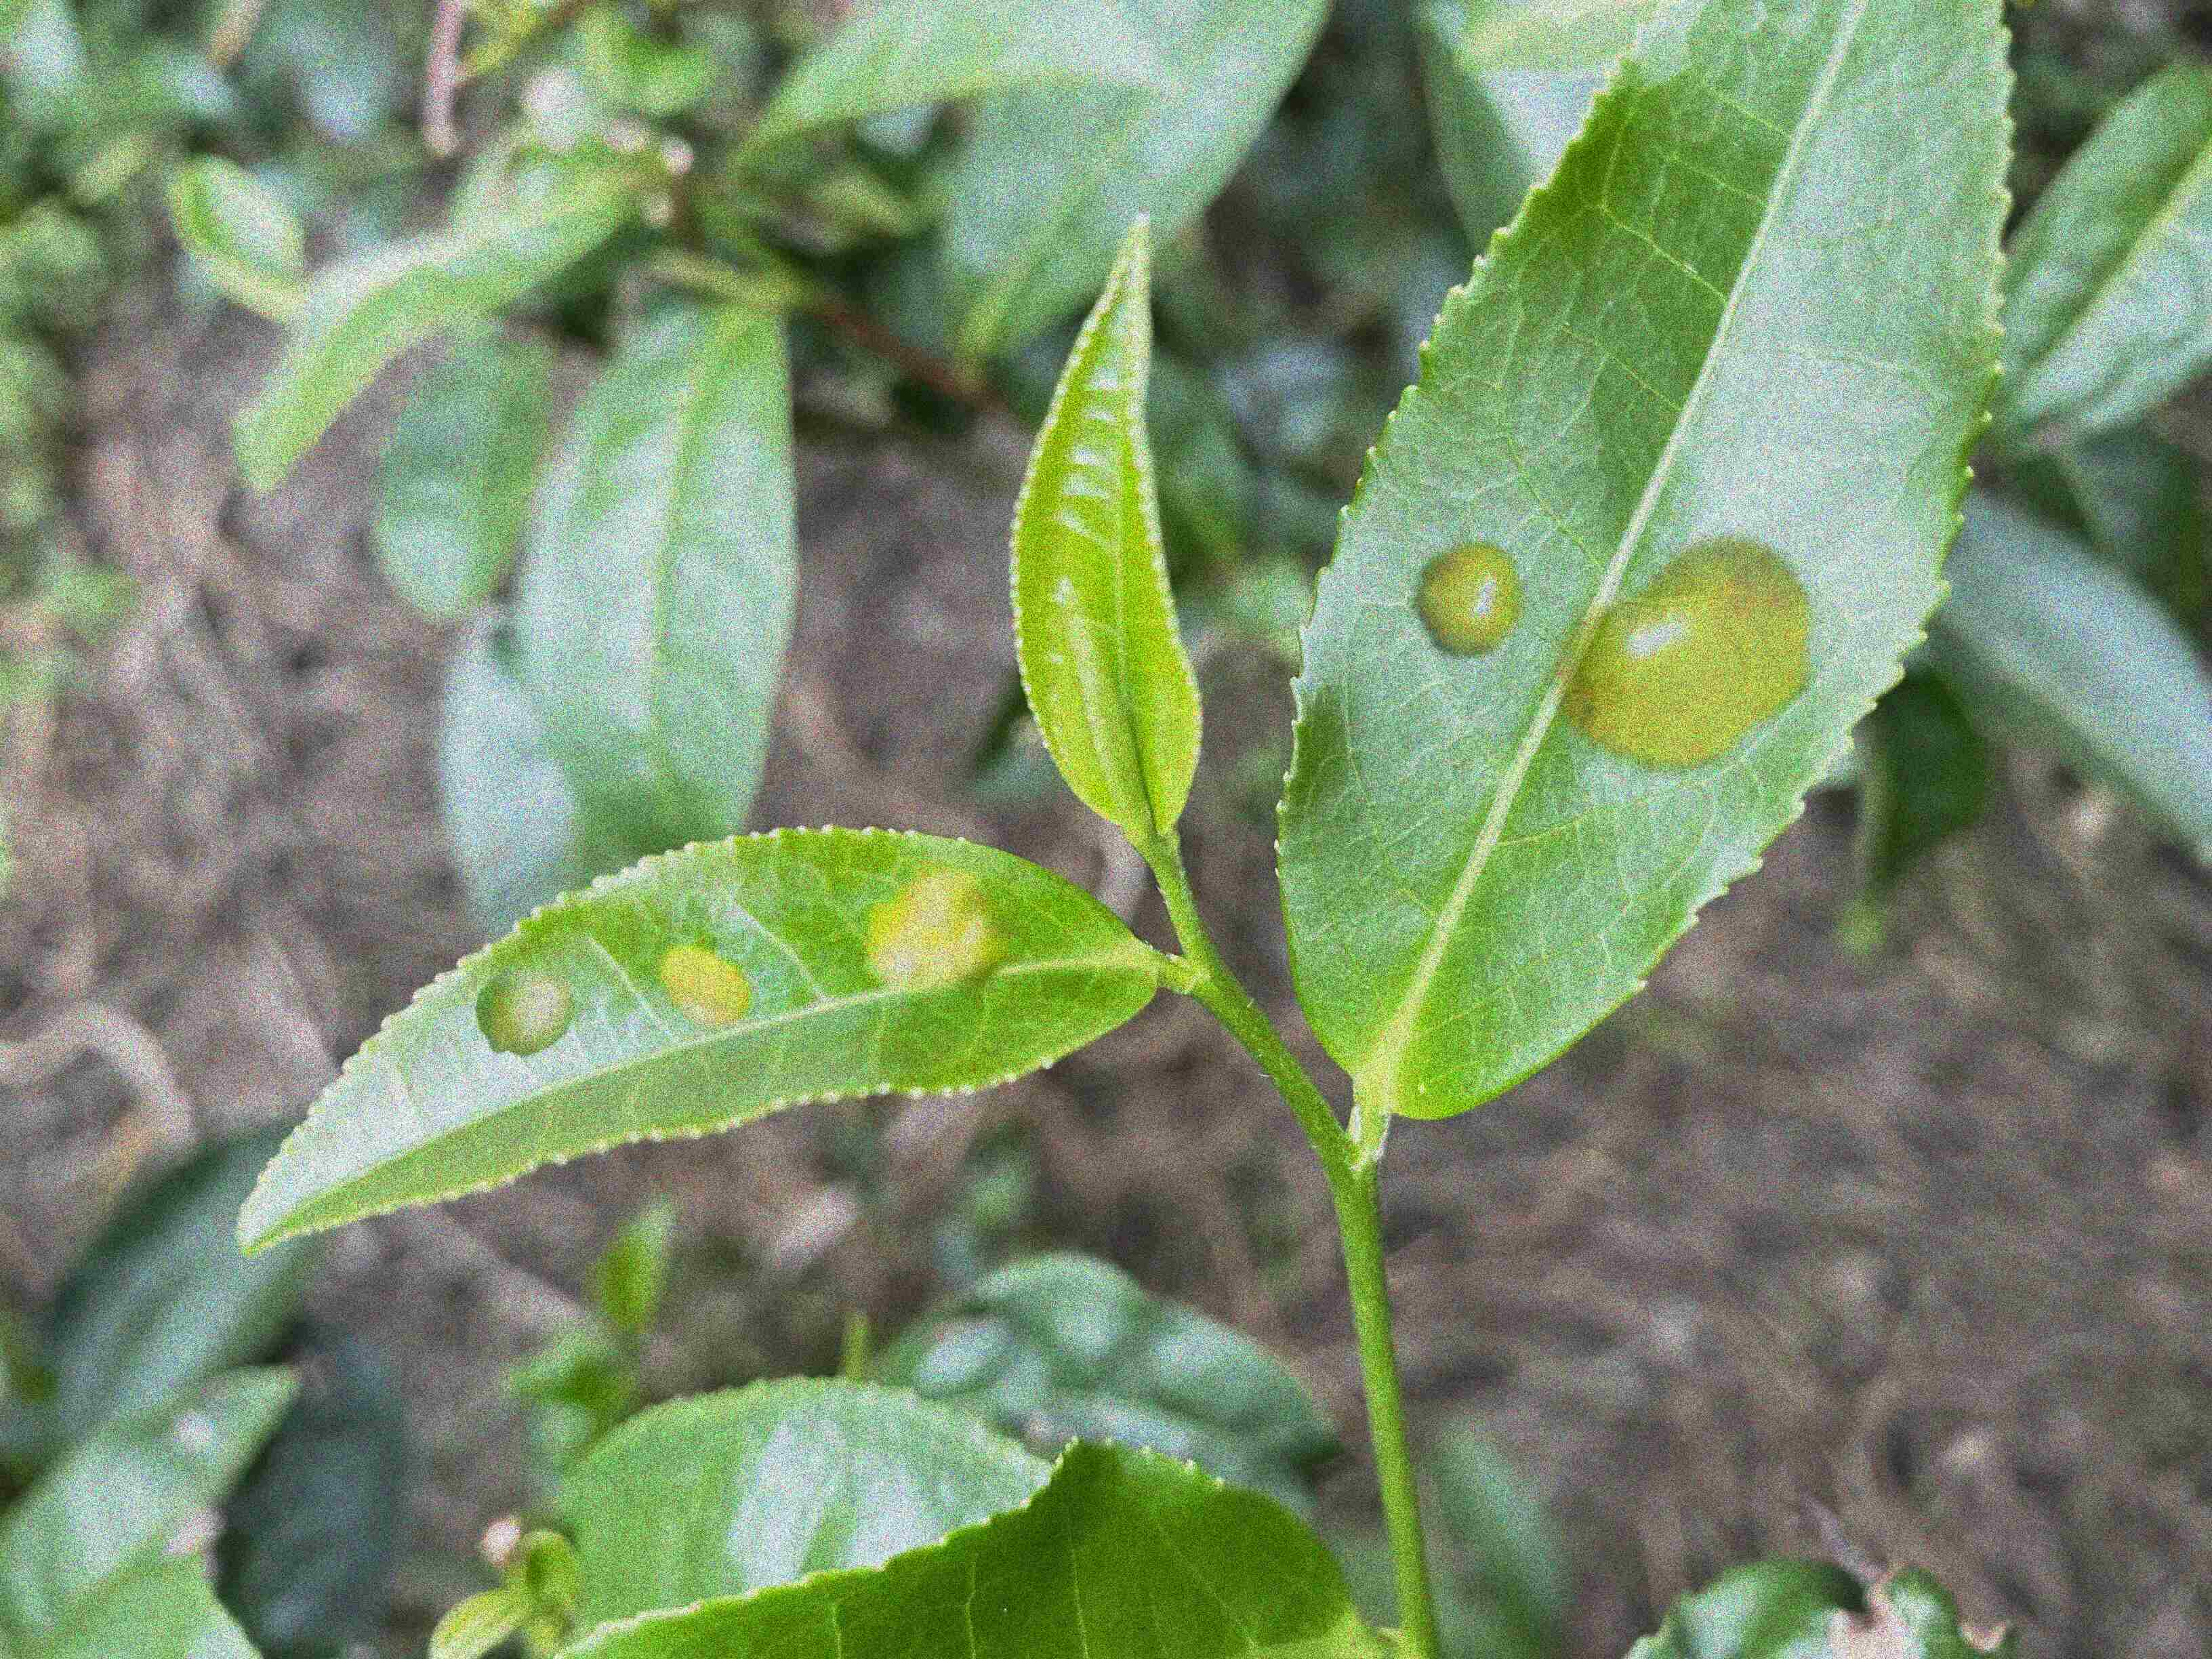chabing_high: (1271, 3, 2019, 1122), (235, 823, 1160, 1260)
healthy: (1008, 213, 1204, 829)
